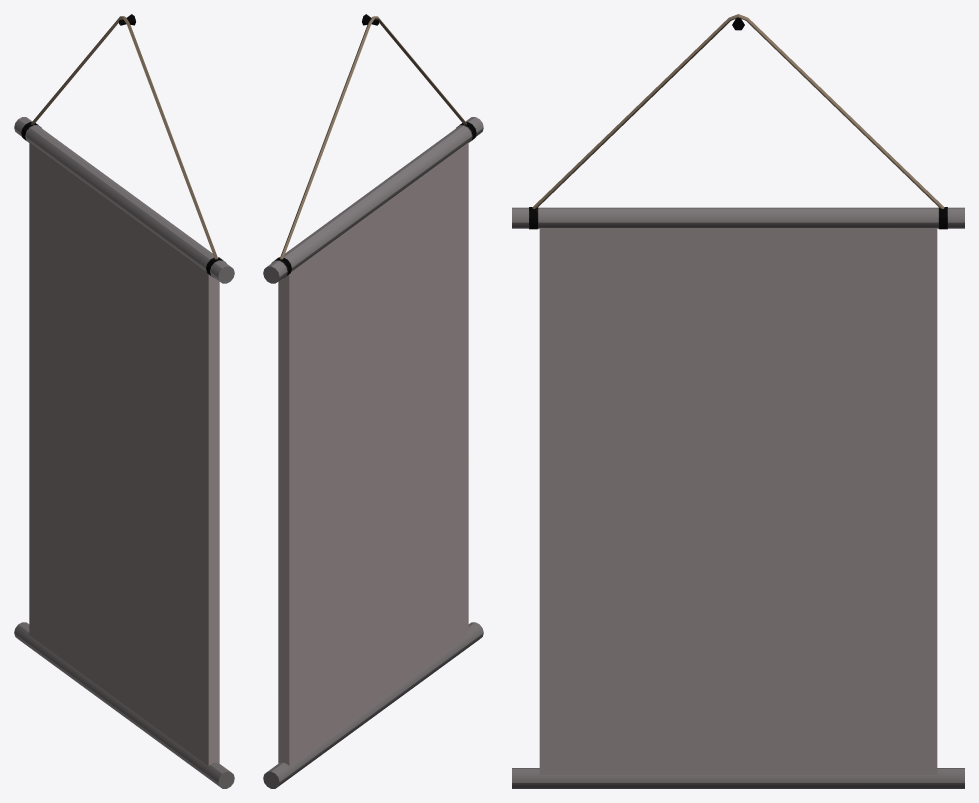
The model's file is signboard.glb.
The picture shows the model from 3 angles, left to right: view 1: azimuth 30°, elevation 25°; view 2: azimuth 150°, elevation 25°; view 3: azimuth 270°, elevation 25°; orthographic projection. The views are drawn at different scales.
Visible parts, largest first — view 1: Sign-material; view 2: Sign-material; view 3: Sign-material.
Part boxes in pixels (<box>): Sign-material: <box>14,14,234,788</box>; Sign-material: <box>263,14,483,788</box>; Sign-material: <box>512,14,964,788</box>.
Size of the model in its own units: 0.00382 by 0.1439 by 0.0763.
1 material, 1 textured.
